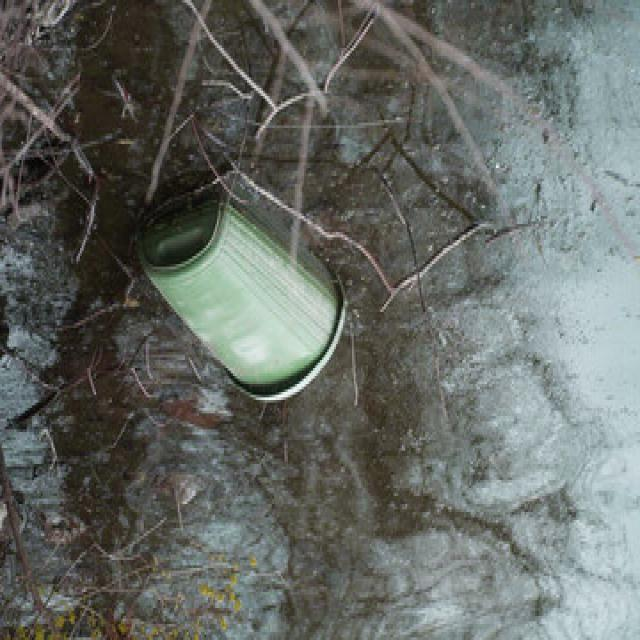Plastic: (138, 202, 346, 406)
